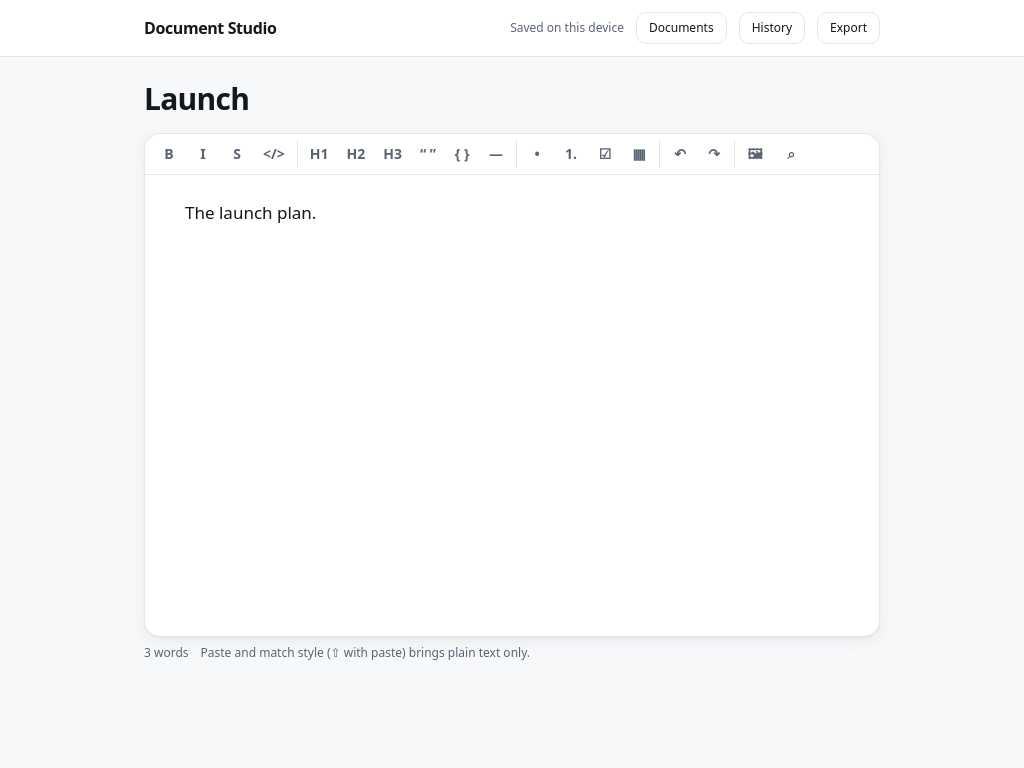
Test: managing documents — integration › renames another document in place; Escape cancels without closing the list
The image size is (1024, 768).
Expected: the field named "Document" is shown, [185, 201, 316, 224]
Click the button "Documents" at (681,28), box [636, 12, 727, 44]
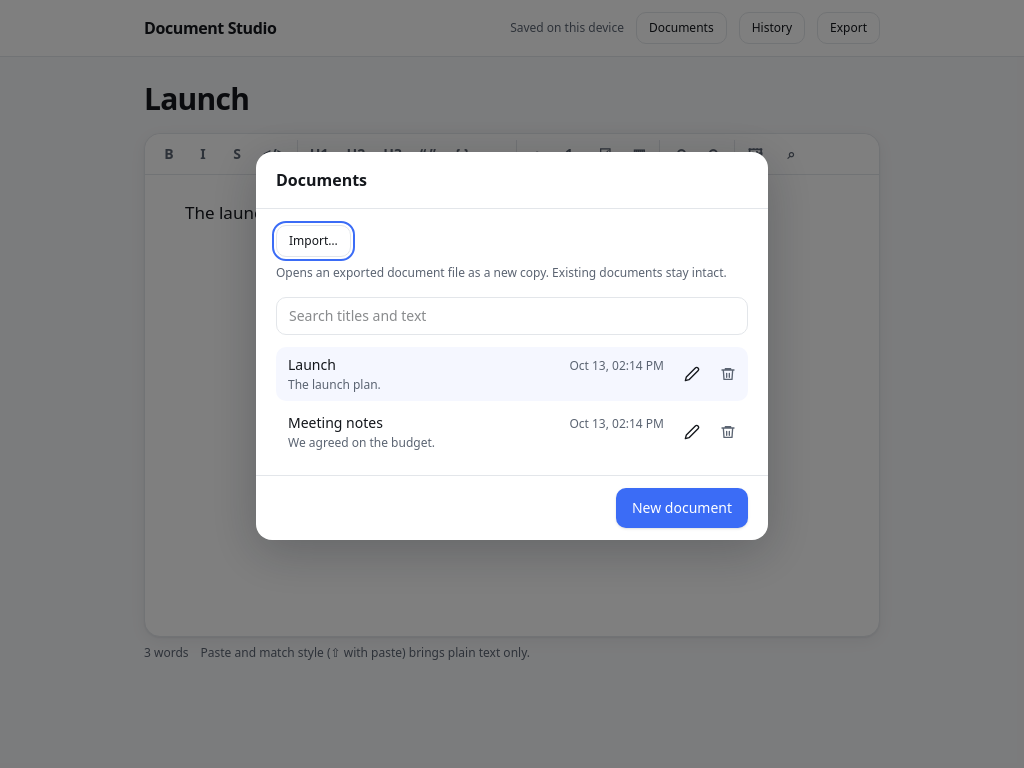
Result: the list named "Documents" is shown at [276, 347, 748, 459]
Click the button named "Rename “Meeting notes”" at (692,432), box [676, 416, 708, 448]
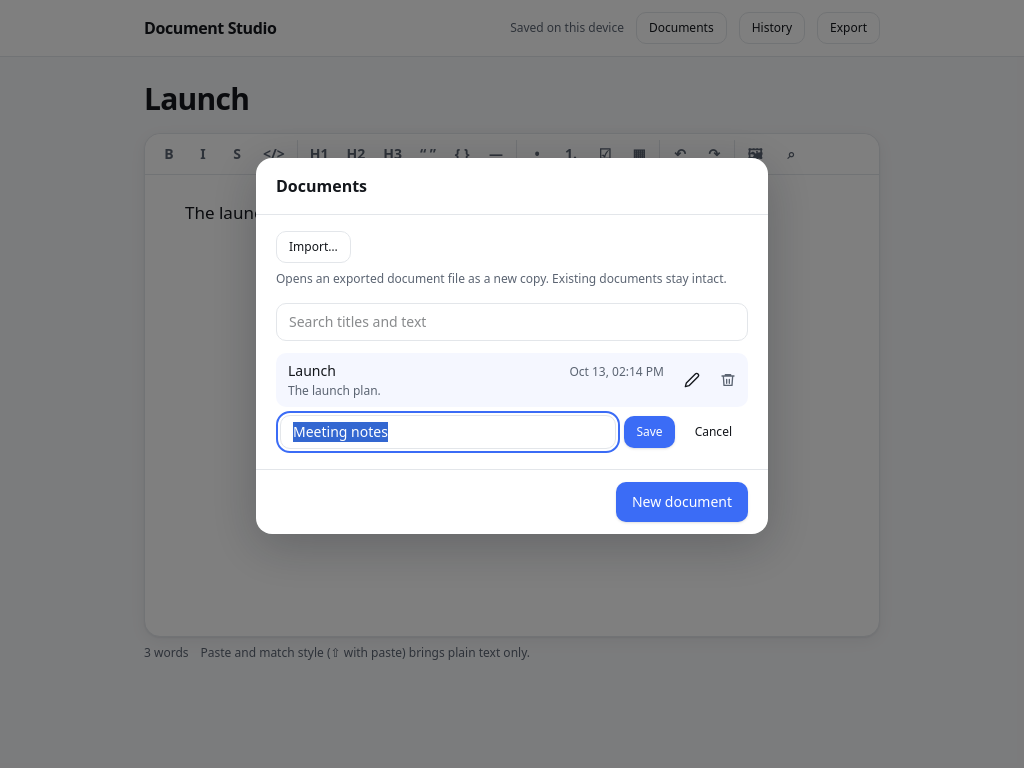
Replace the text in the field named "New title for “Meeting notes”" with "Budget meeting" at (448,432), box [280, 415, 616, 449]
Press Escape in the field named "New title for “Meeting notes”", box [280, 415, 616, 449]
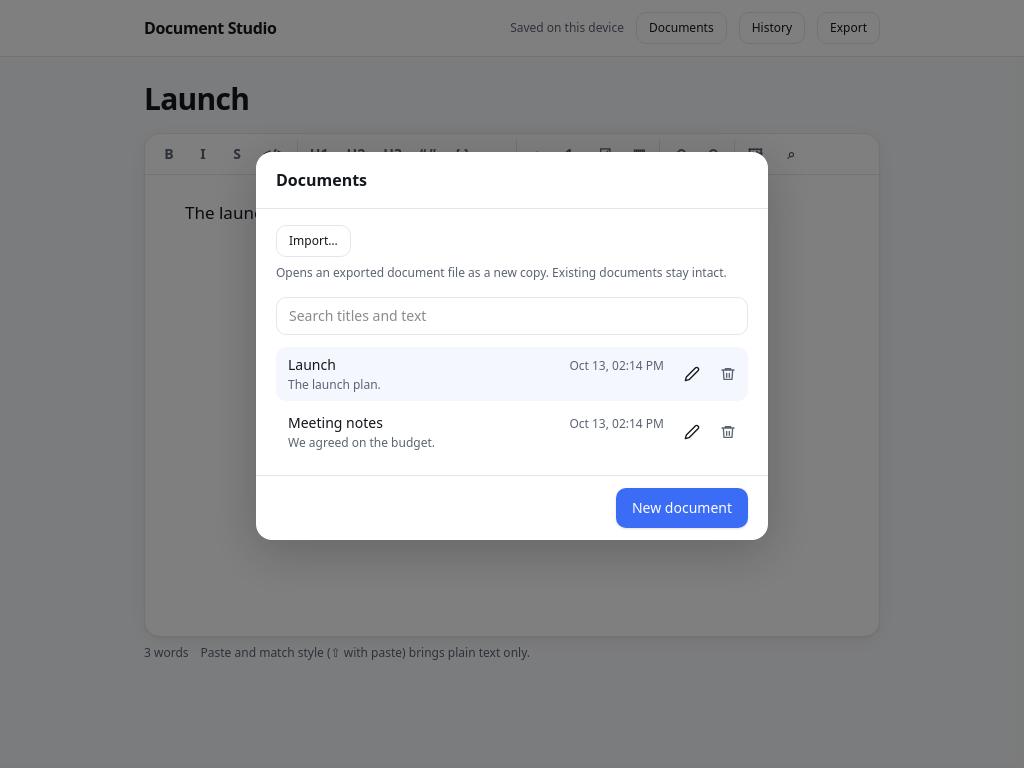
Result: the dialog "Documents" is shown at [256, 152, 768, 540]
Click the button named "Rename “Meeting notes”" at (692,432), box [676, 416, 708, 448]
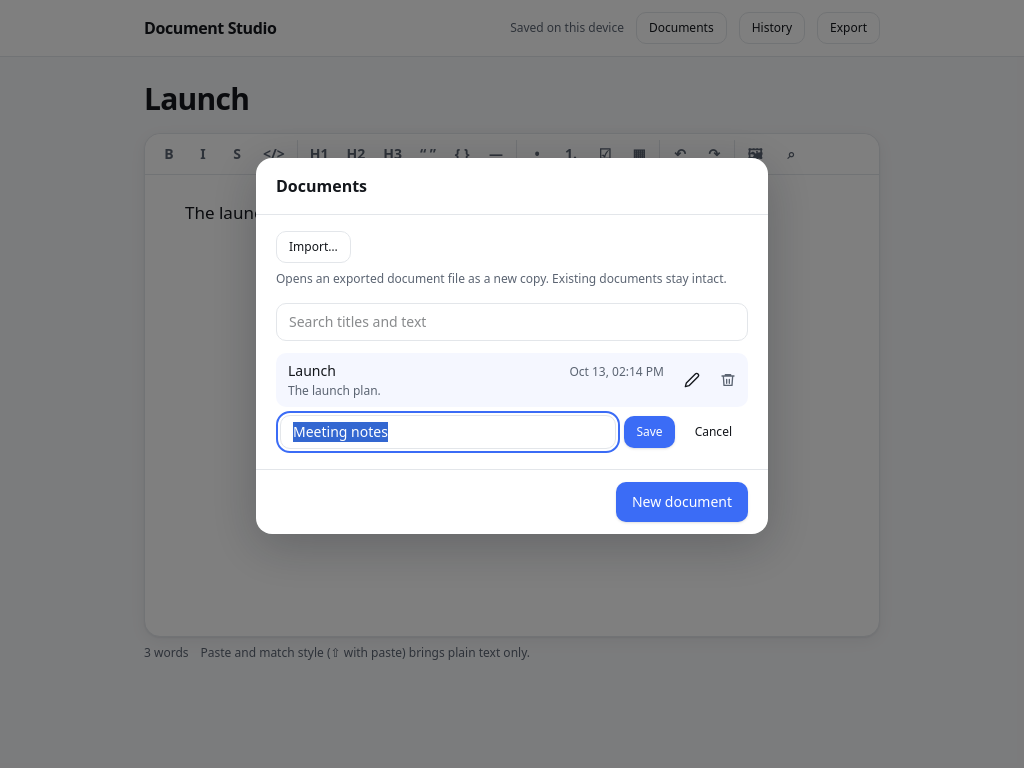
Replace the text in the field named "New title" with "Budget meeting" at (448,432), box [280, 415, 616, 449]
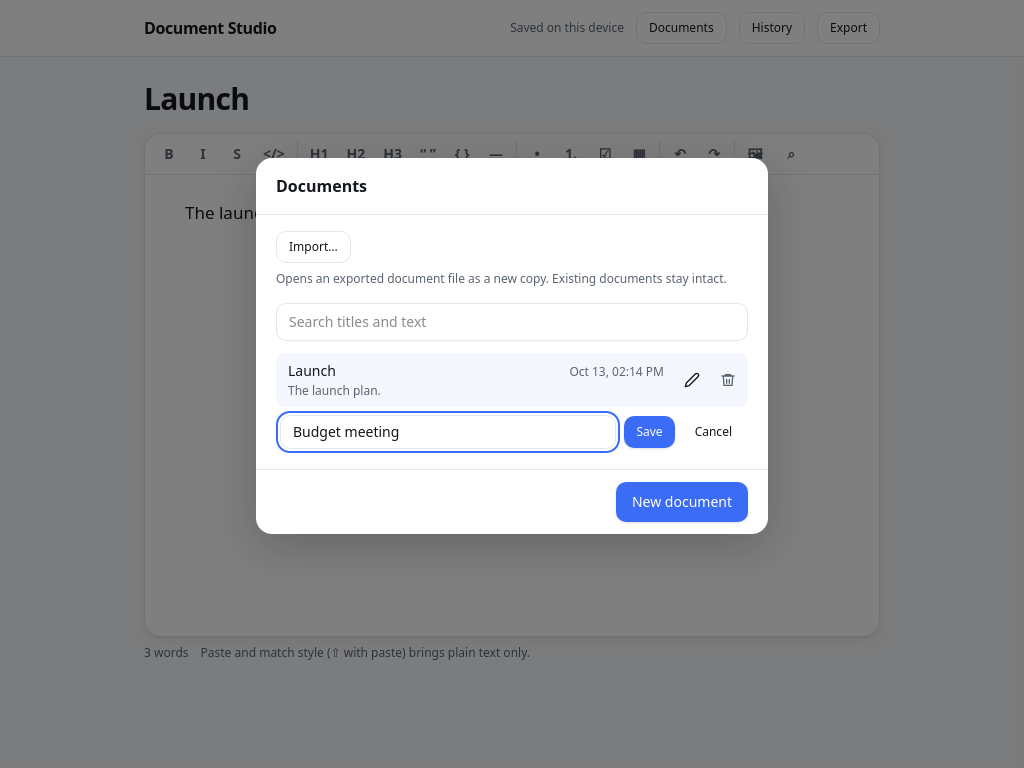
Click the button "Save" at (650,432), box [624, 416, 675, 448]
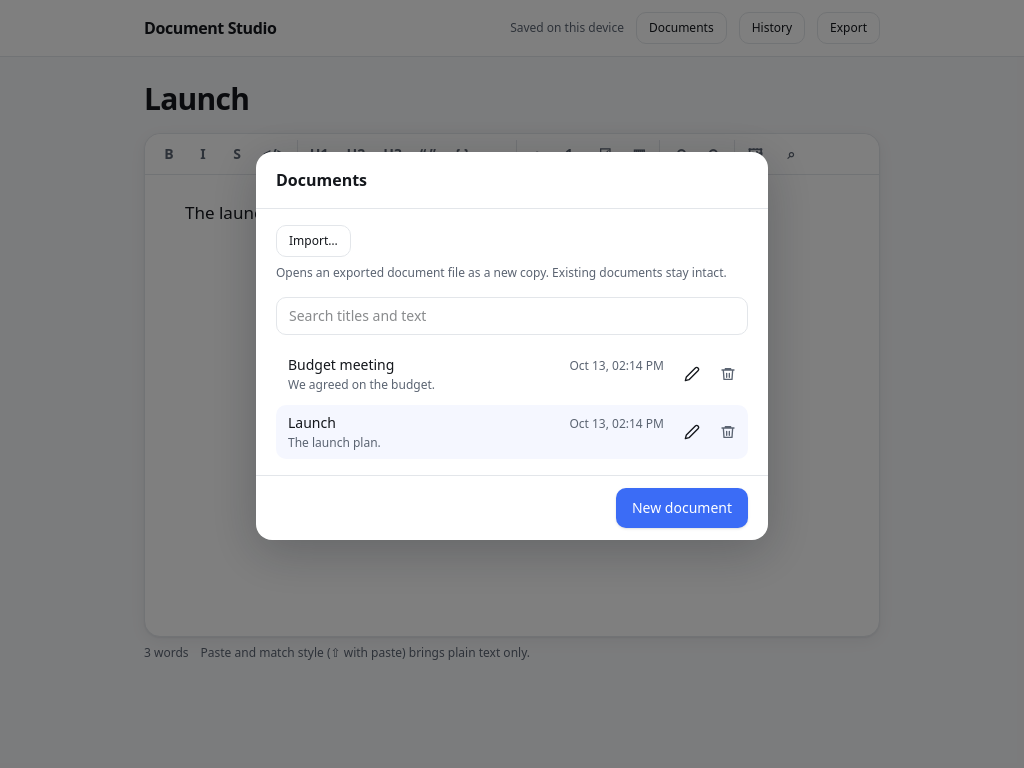
Result: the button named "Rename “Budget meeting”" is shown at [676, 358, 708, 390]
